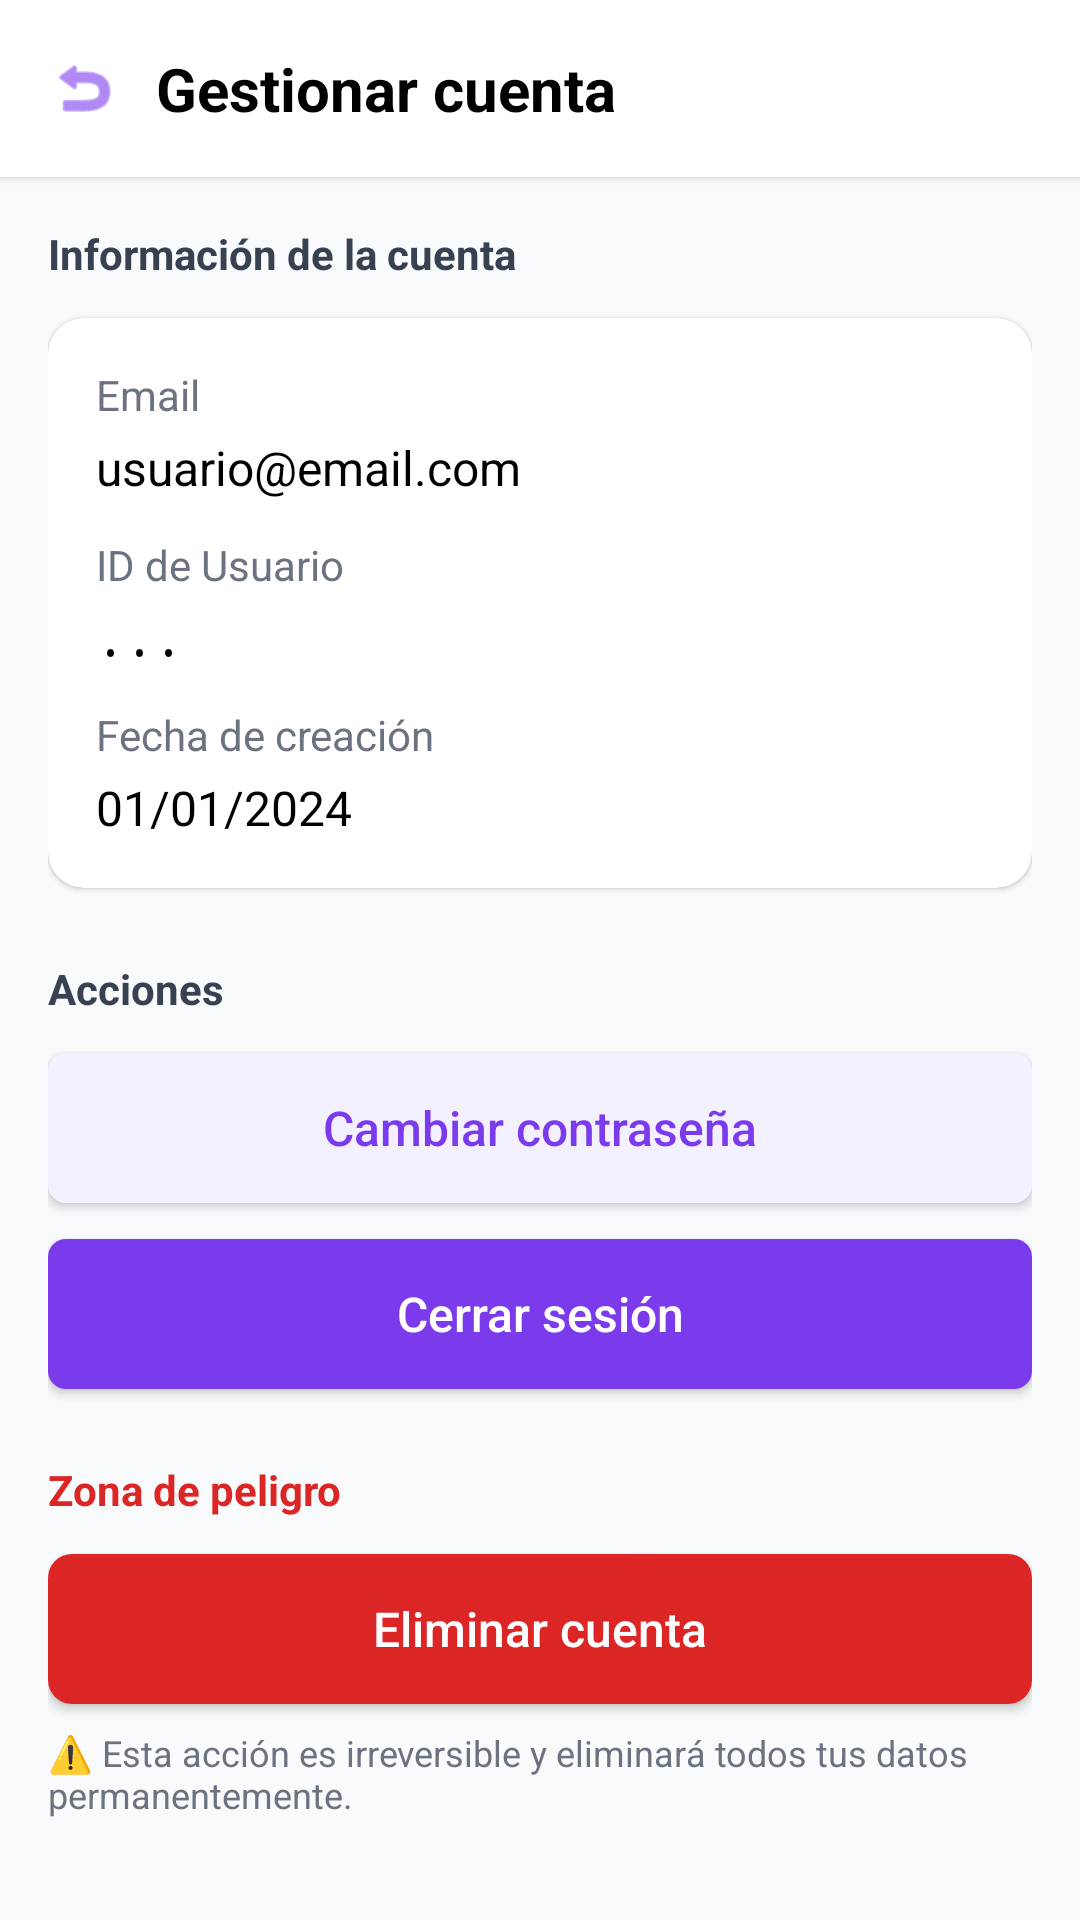

Where to tap for icons on this 1080 × 1920 app screen, as point (x, y):
revert: point (85, 88)
